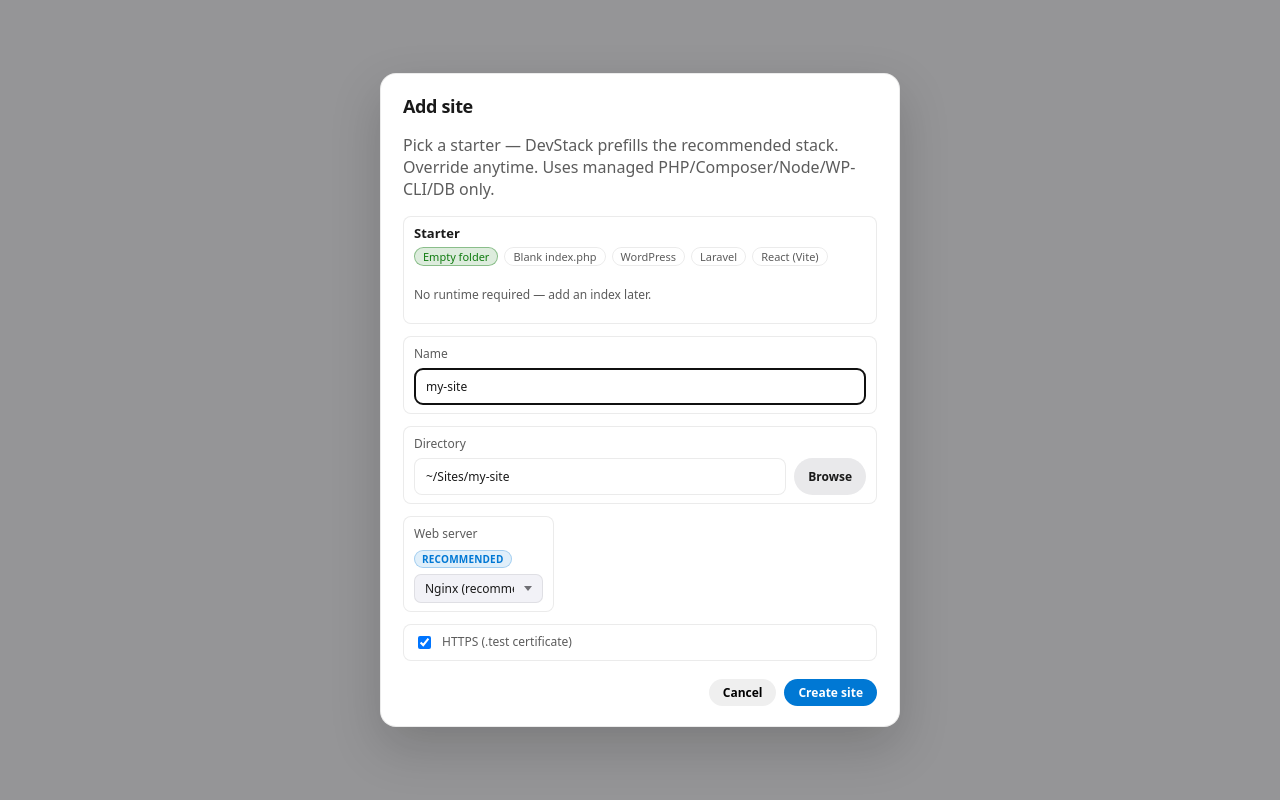
Test case: AddSiteModal recommended stack › prefills WordPress with Apache + MariaDB and shows Recommended badges
The image size is (1280, 800).
Click the radio button with test id "starter-wordpress" at (648, 257), box [612,247,685,266]
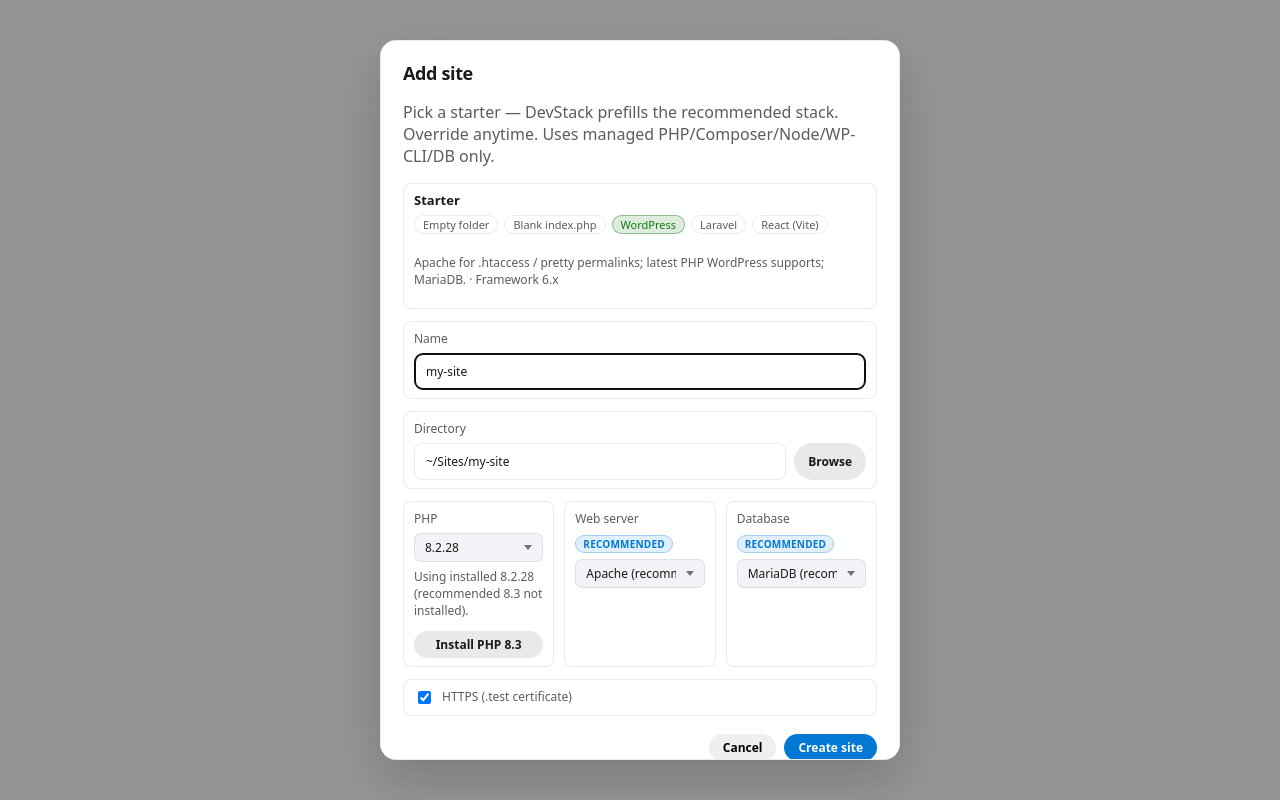
Result: the dropdown with test id "select-webserver" shows "Apache (recommended)" at [575,559,705,588]
Result: the dropdown with test id "select-database" shows "MariaDB (recommended)" at [737,559,866,588]
Result: the dropdown with test id "select-php" shows "8.2.28" at [414,533,543,562]
